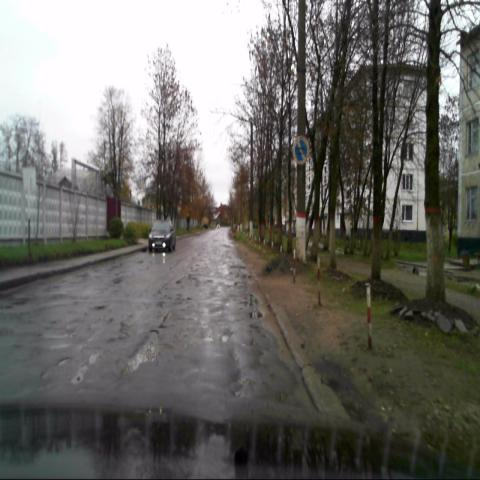3_28: (293, 136, 309, 165)
